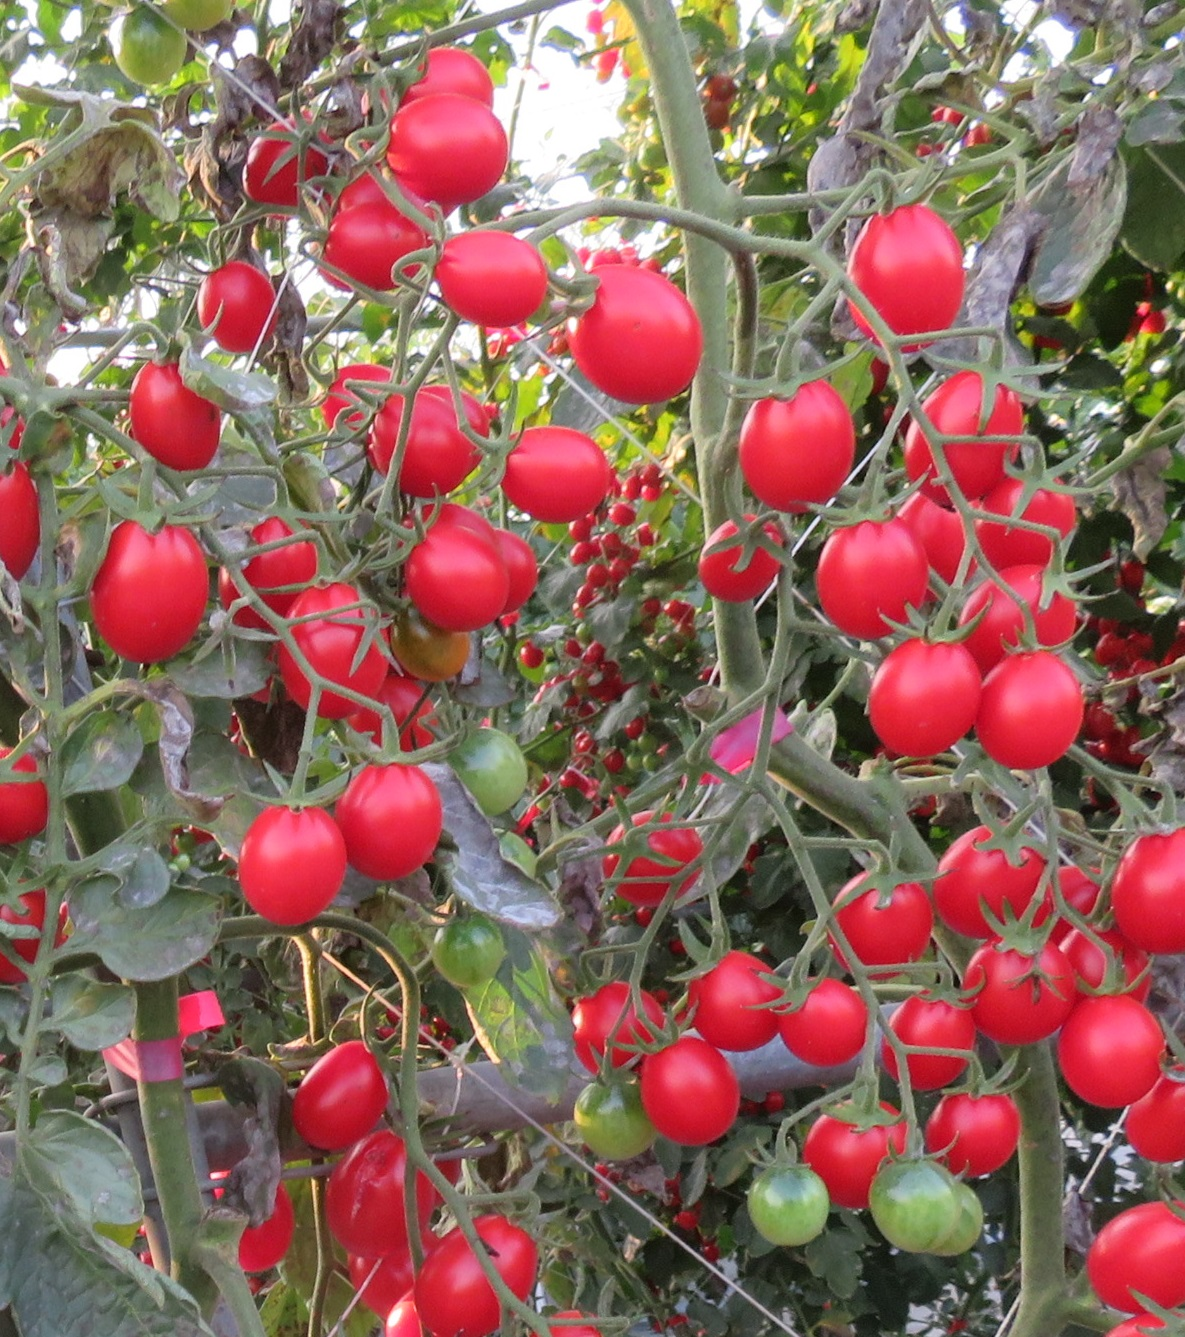green: (866, 1159, 960, 1256), (429, 909, 519, 998), (748, 1153, 824, 1257), (574, 1068, 641, 1173), (456, 729, 526, 823)
red: (562, 260, 713, 413), (85, 518, 213, 673), (734, 367, 859, 520), (233, 791, 353, 934), (415, 1200, 547, 1330), (838, 202, 963, 339), (865, 624, 981, 767), (908, 363, 1027, 498), (817, 506, 929, 645), (373, 96, 519, 193), (387, 524, 516, 631), (976, 642, 1083, 770), (935, 818, 1044, 941), (477, 430, 620, 524), (331, 1133, 437, 1256), (339, 761, 444, 881), (1058, 989, 1162, 1111), (1083, 1193, 1185, 1316), (196, 1159, 304, 1274), (965, 565, 1084, 670), (802, 1099, 916, 1208), (970, 931, 1074, 1045), (374, 390, 487, 494), (641, 1045, 751, 1149), (429, 221, 547, 318), (685, 945, 790, 1052), (1099, 830, 1185, 961), (287, 1041, 388, 1148), (591, 813, 711, 902), (977, 473, 1087, 571), (929, 1077, 1029, 1180), (833, 874, 930, 978), (886, 990, 979, 1098), (568, 987, 673, 1082), (190, 263, 283, 367), (323, 209, 440, 291), (137, 368, 224, 473), (692, 507, 787, 600), (777, 973, 866, 1068), (237, 113, 328, 205), (399, 48, 499, 121), (1126, 1068, 1185, 1164), (1, 745, 59, 839)
